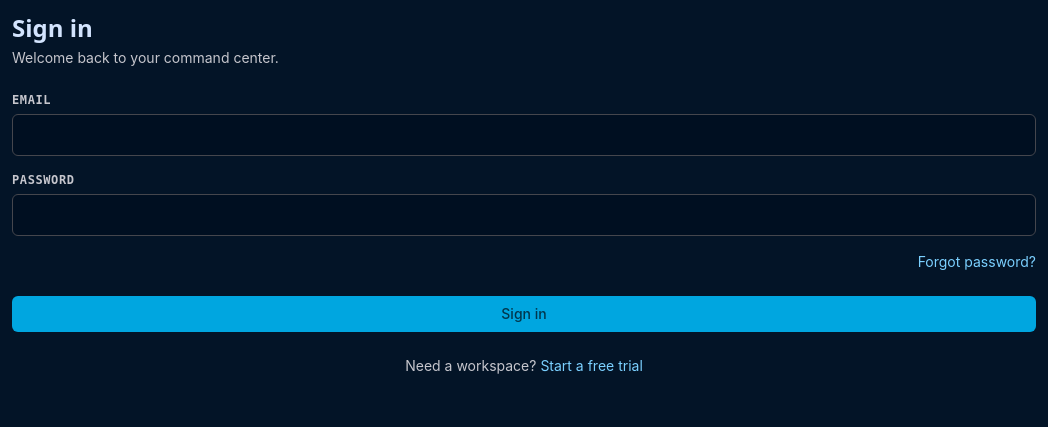
Test case: SignInPage › shows a generic error message on failed sign-in without revealing account existence
Type "a@b.com" into the field labelled "Email". click: [524, 135]
box: [12,114,1036,156]
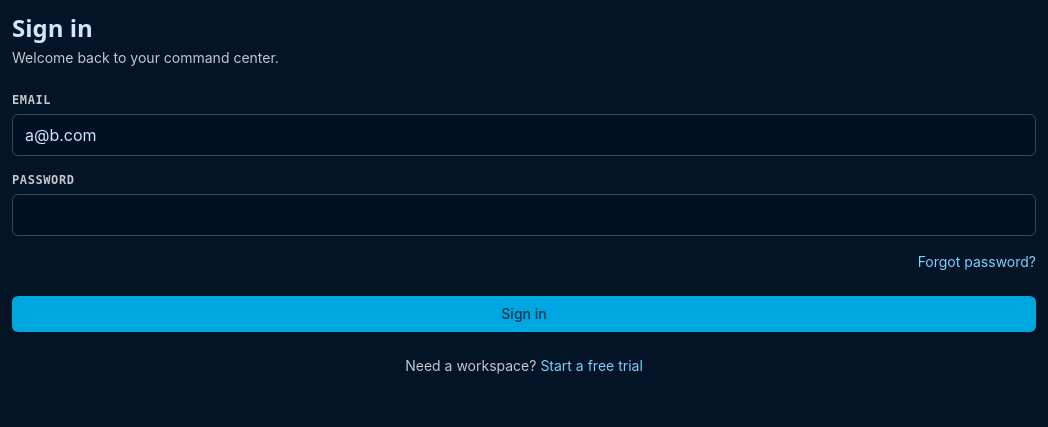
Type "wrongpass" into the password field labelled "Password". click: [524, 215]
box: [12,194,1036,236]
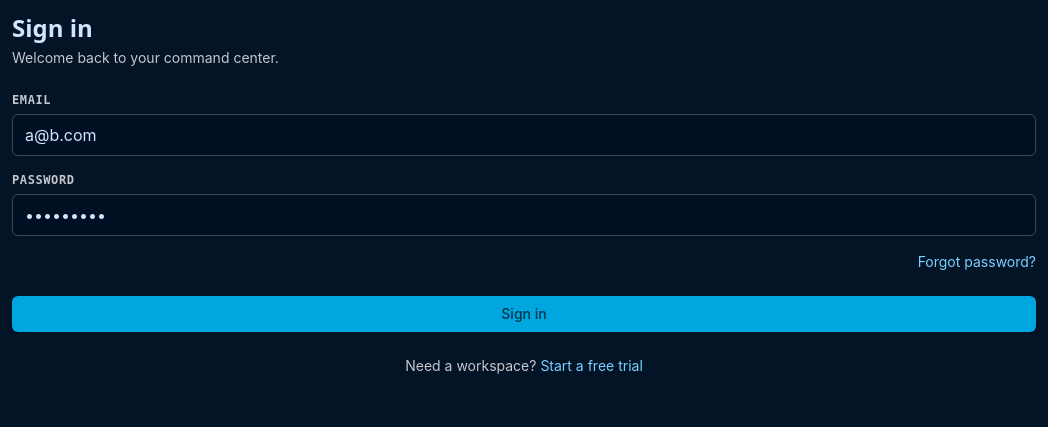
Click the button "Sign in". click: [524, 314]
box: [12,296,1036,332]
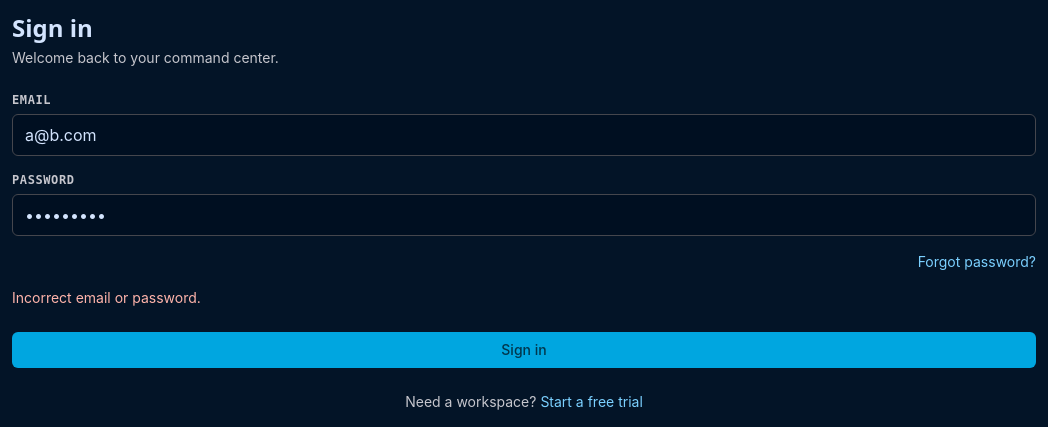
Expected: the message reads "Incorrect email or password.", [12,289,201,306]
